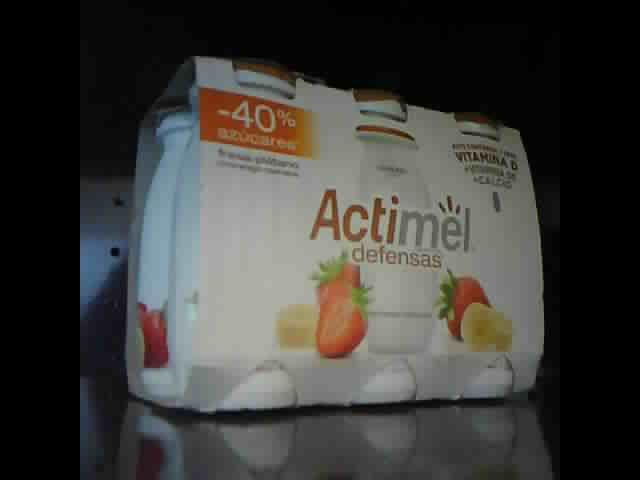actimel: (127, 53, 544, 417)
